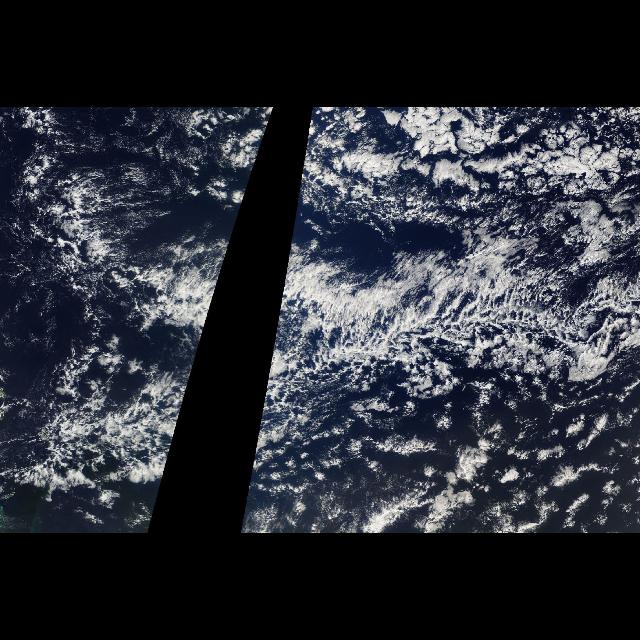Fish: (242, 240, 640, 510), (10, 240, 232, 510)
Sugar: (64, 109, 192, 234)
